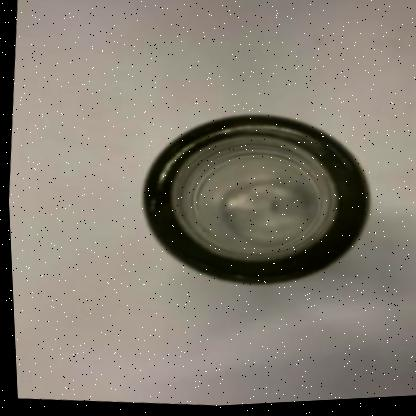Glass: (141, 119, 365, 286)
